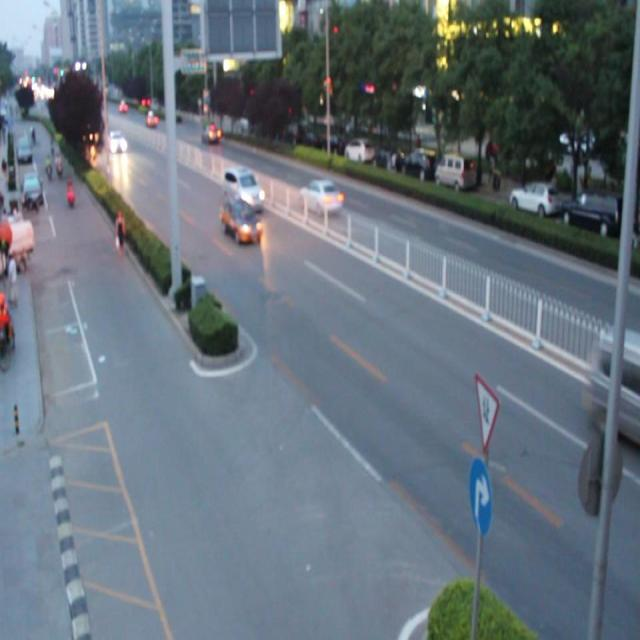car: (222, 198, 262, 246), (224, 166, 263, 211), (298, 177, 341, 215), (202, 122, 218, 142)
truck: (588, 327, 640, 442)
